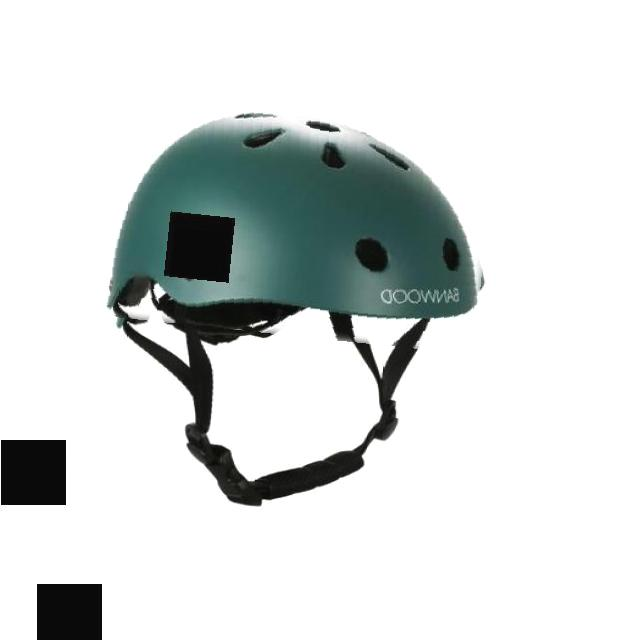helmet: (110, 104, 491, 345)
